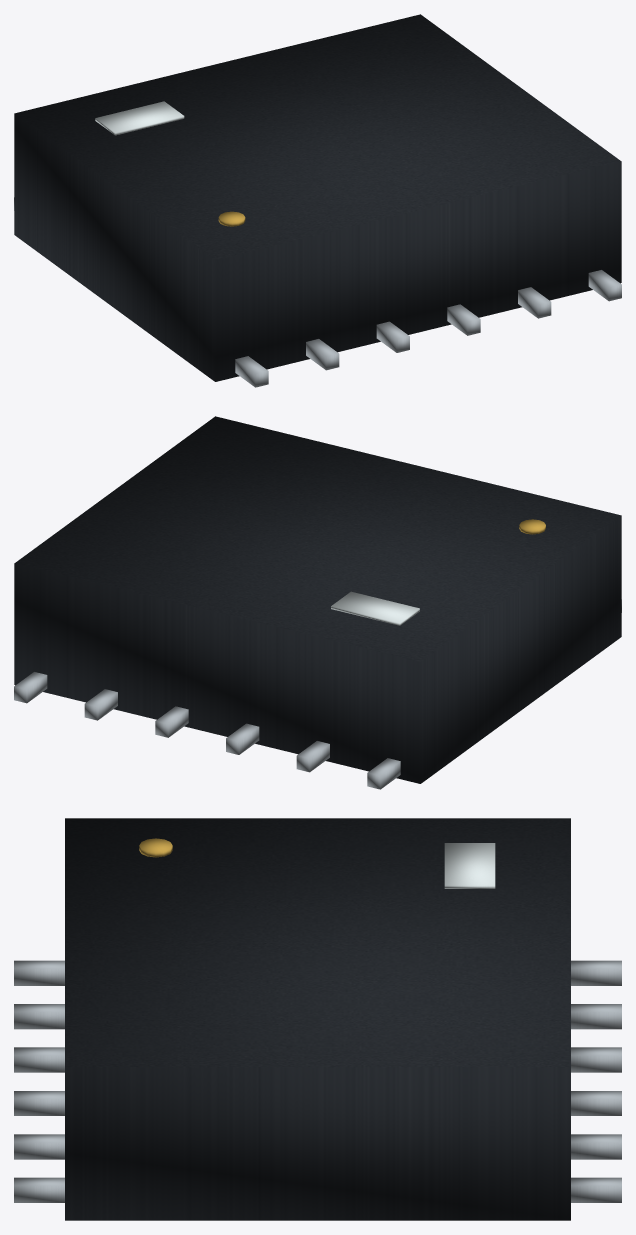
The picture shows the model from 3 angles, top to bottom: view 1: azimuth 30°, elevation 25°; view 2: azimuth 150°, elevation 25°; view 3: azimuth 270°, elevation 25°; orthographic projection. The views are drawn at different scales.
Visible parts, largest first — view 1: L116_000__PSMAT__IC_MatteBlack, L116_001__PSMAT__Silkscreen_White, L116_004__PSMAT__Tin_Lead, L116_010__PSMAT__Tin_Lead, L116_008__PSMAT__Tin_Lead, L116_014__PSMAT__Tin_Lead, L116_012__PSMAT__Tin_Lead, L116_006__PSMAT__Tin_Lead; view 2: L116_000__PSMAT__IC_MatteBlack, L116_001__PSMAT__Silkscreen_White, L116_003__PSMAT__Tin_Lead, L116_009__PSMAT__Tin_Lead, L116_007__PSMAT__Tin_Lead, L116_013__PSMAT__Tin_Lead, L116_011__PSMAT__Tin_Lead, L116_005__PSMAT__Tin_Lead; view 3: L116_000__PSMAT__IC_MatteBlack, L116_001__PSMAT__Silkscreen_White, L116_003__PSMAT__Tin_Lead, L116_004__PSMAT__Tin_Lead, L116_005__PSMAT__Tin_Lead, L116_006__PSMAT__Tin_Lead, L116_007__PSMAT__Tin_Lead, L116_008__PSMAT__Tin_Lead, L116_011__PSMAT__Tin_Lead, L116_012__PSMAT__Tin_Lead, L116_013__PSMAT__Tin_Lead, L116_014__PSMAT__Tin_Lead (+2 smaller).
Part boxes in pixels (box(x1,y1,x2,y2)): L116_000__PSMAT__IC_MatteBlack: box(14, 14, 621, 381); L116_001__PSMAT__Silkscreen_White: box(95, 101, 184, 135); L116_004__PSMAT__Tin_Lead: box(235, 356, 268, 387); L116_010__PSMAT__Tin_Lead: box(447, 304, 480, 335); L116_008__PSMAT__Tin_Lead: box(376, 321, 409, 352); L116_014__PSMAT__Tin_Lead: box(588, 270, 621, 301); L116_012__PSMAT__Tin_Lead: box(518, 287, 551, 318); L116_006__PSMAT__Tin_Lead: box(306, 339, 339, 370); L116_000__PSMAT__IC_MatteBlack: box(14, 416, 621, 783); L116_001__PSMAT__Silkscreen_White: box(331, 591, 419, 625); L116_003__PSMAT__Tin_Lead: box(367, 758, 400, 789); L116_009__PSMAT__Tin_Lead: box(155, 706, 188, 737); L116_007__PSMAT__Tin_Lead: box(226, 723, 259, 754); L116_013__PSMAT__Tin_Lead: box(14, 672, 47, 703); L116_011__PSMAT__Tin_Lead: box(84, 689, 117, 720); L116_005__PSMAT__Tin_Lead: box(296, 741, 329, 772); L116_000__PSMAT__IC_MatteBlack: box(65, 818, 570, 1220); L116_001__PSMAT__Silkscreen_White: box(444, 843, 495, 888); L116_003__PSMAT__Tin_Lead: box(571, 960, 621, 985); L116_004__PSMAT__Tin_Lead: box(14, 960, 64, 985); L116_005__PSMAT__Tin_Lead: box(571, 1004, 621, 1029); L116_006__PSMAT__Tin_Lead: box(14, 1004, 64, 1029); L116_007__PSMAT__Tin_Lead: box(571, 1047, 621, 1072); L116_008__PSMAT__Tin_Lead: box(14, 1047, 64, 1072); L116_011__PSMAT__Tin_Lead: box(571, 1134, 621, 1159); L116_012__PSMAT__Tin_Lead: box(14, 1134, 64, 1159); L116_013__PSMAT__Tin_Lead: box(571, 1177, 621, 1202); L116_014__PSMAT__Tin_Lead: box(14, 1177, 64, 1202).
Size of the model in its own units: 0.014 by 0.00416 by 0.0144.
Materials: 4 (4 with a texture image).
